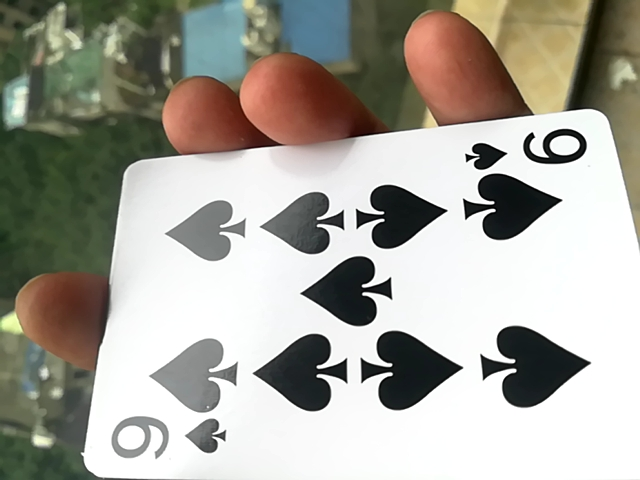ht 9: (68, 119, 635, 480)
